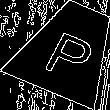P_NE: (38, 19, 99, 80)
